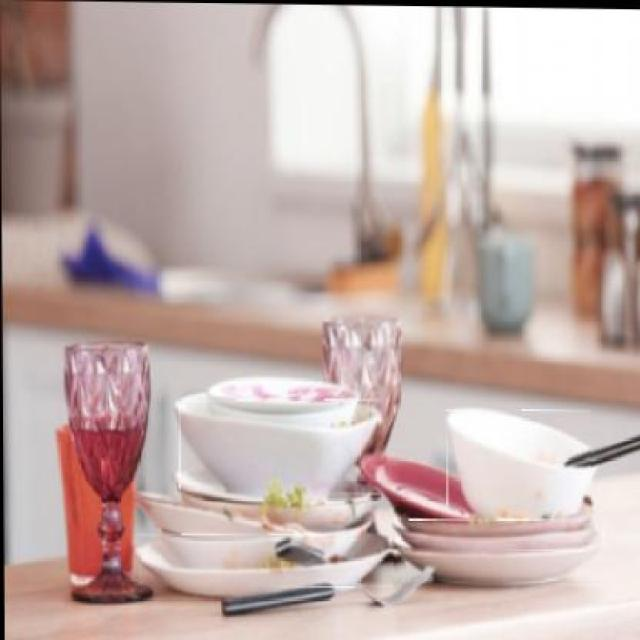Bowl: (179, 397, 380, 495), (446, 408, 592, 516)
Plate: (138, 531, 394, 588), (402, 534, 605, 585), (388, 516, 600, 550)
